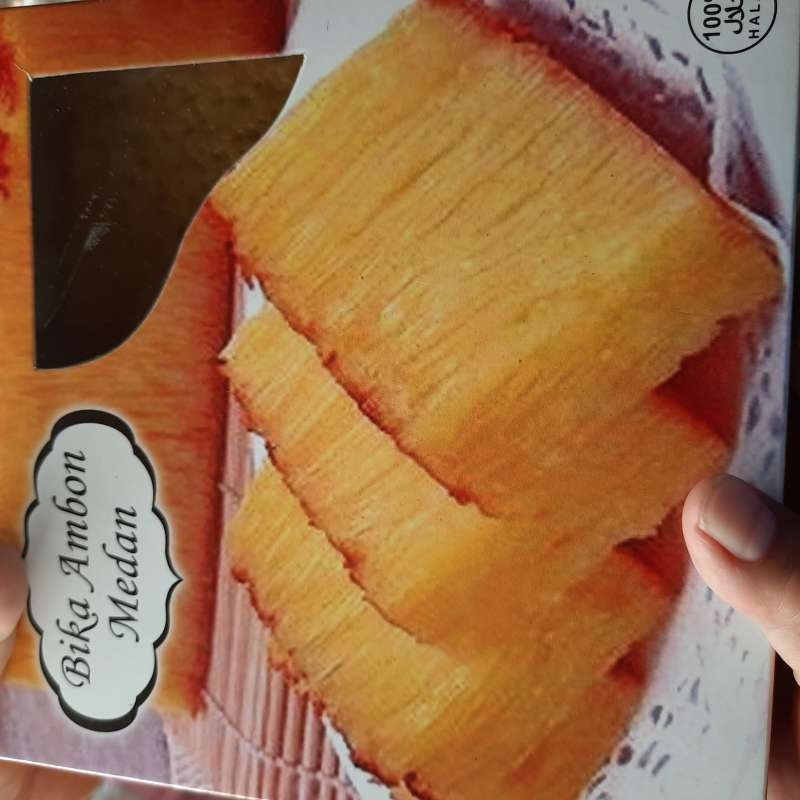bika_ambon: (224, 5, 760, 494)
